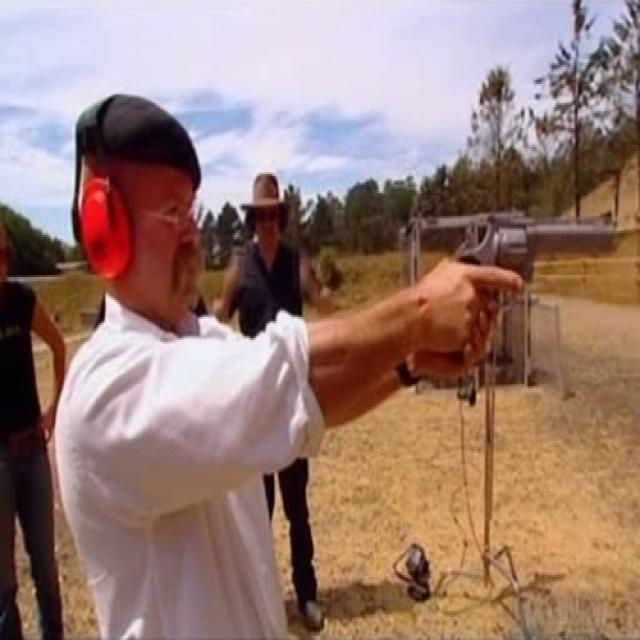weapons: (434, 193, 632, 356)
